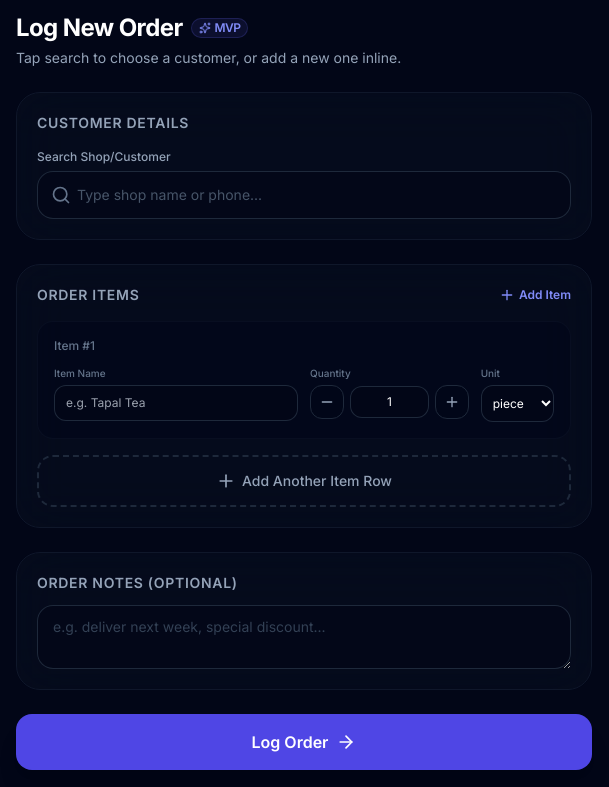
NewOrder Form Component › correctly increments and decrements item quantity
This screenshot has width=609, height=787.
Expected: the number field with test id "qty-input" holds "1", [350,386,429,418]
Click the button with test id "qty-increment" at (452, 402), box [435,385,469,419]
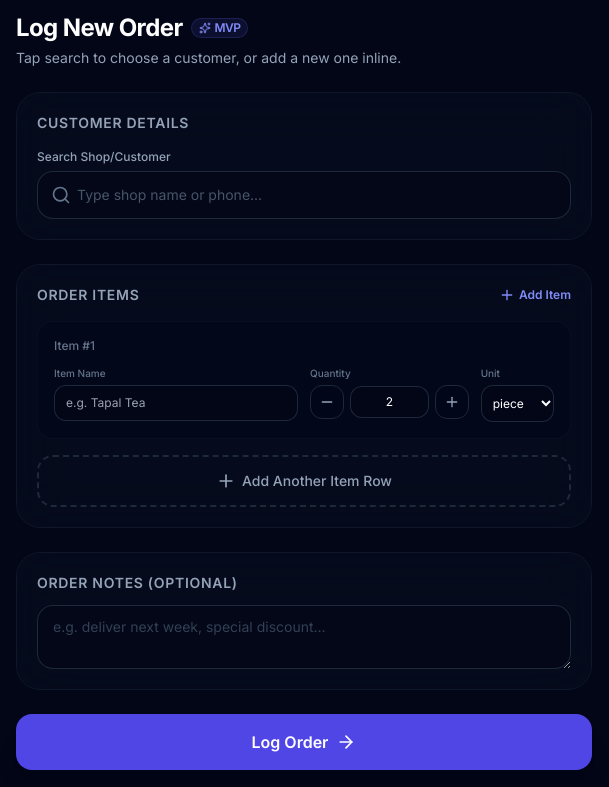
Expected: the number field with test id "qty-input" holds "2", [350,386,429,418]
Click the button with test id "qty-decrement" at (327, 402), box [310,385,344,419]
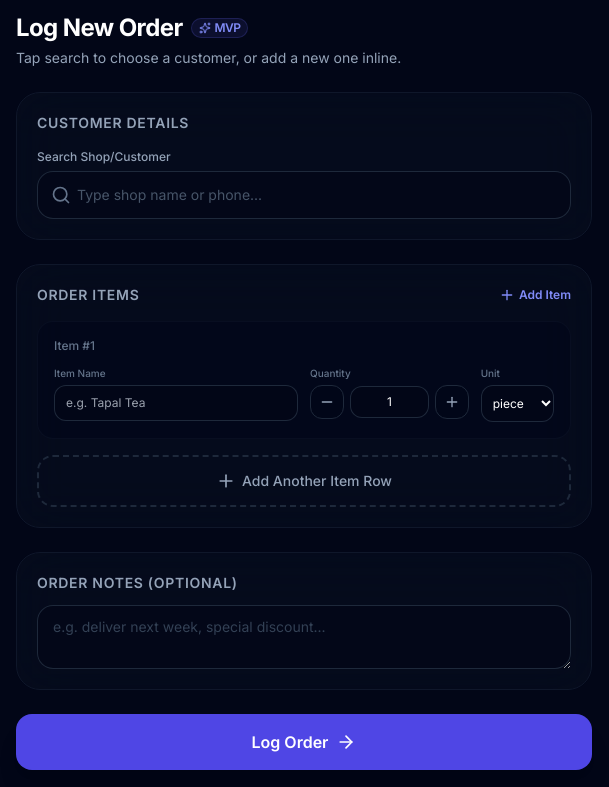
Expected: the number field with test id "qty-input" holds "1", [350,386,429,418]
